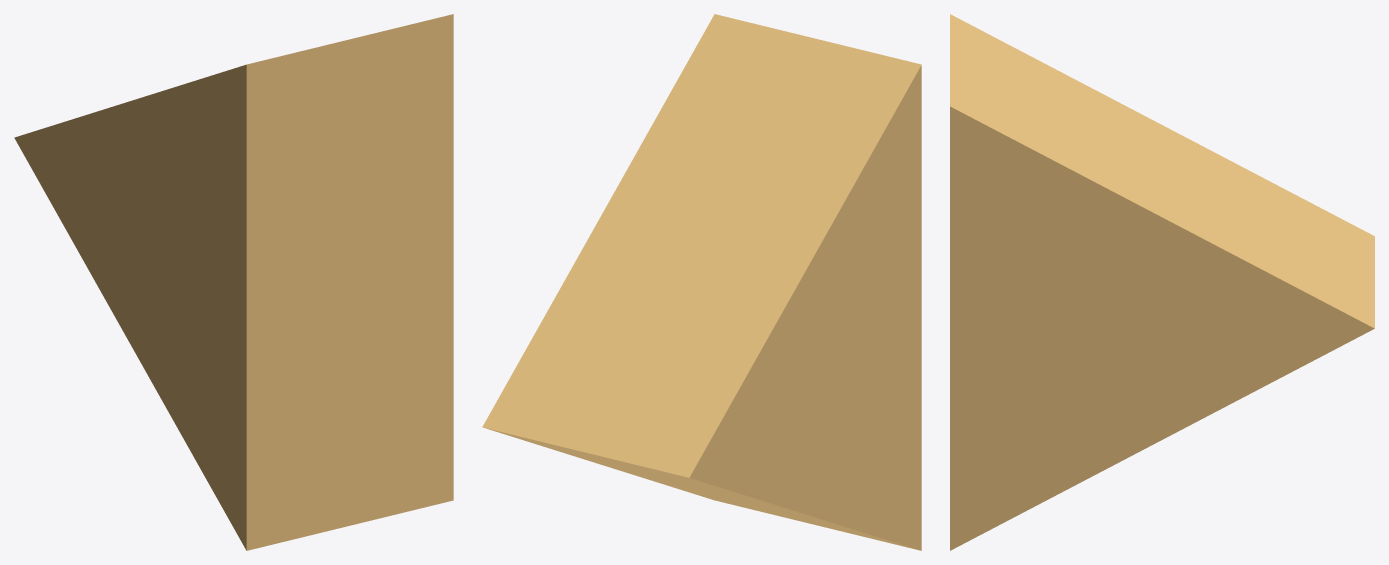
File: pointer.fbx
The picture shows the model from 3 angles, left to right: view 1: azimuth 30°, elevation 25°; view 2: azimuth 150°, elevation 25°; view 3: azimuth 270°, elevation 25°; orthographic projection. The views are drawn at different scales.
Parts seen in each view (by area): view 1: Cylinder; view 2: Cylinder; view 3: Cylinder.
Part boxes in pixels (x1=…): Cylinder: x1=14, y1=14, x2=453, y2=550; Cylinder: x1=482, y1=14, x2=921, y2=550; Cylinder: x1=950, y1=14, x2=1374, y2=550.
Size of the model in its own units: 11.9 by 26.69 by 23.12.
